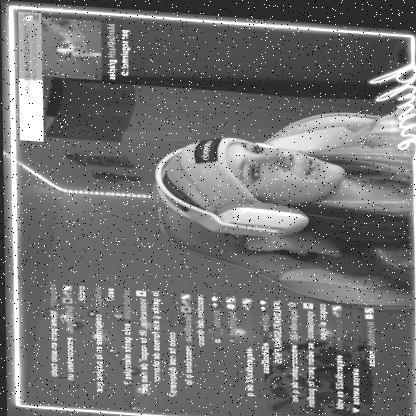donation: (41, 16, 130, 82)
streamer: (149, 67, 416, 286)
